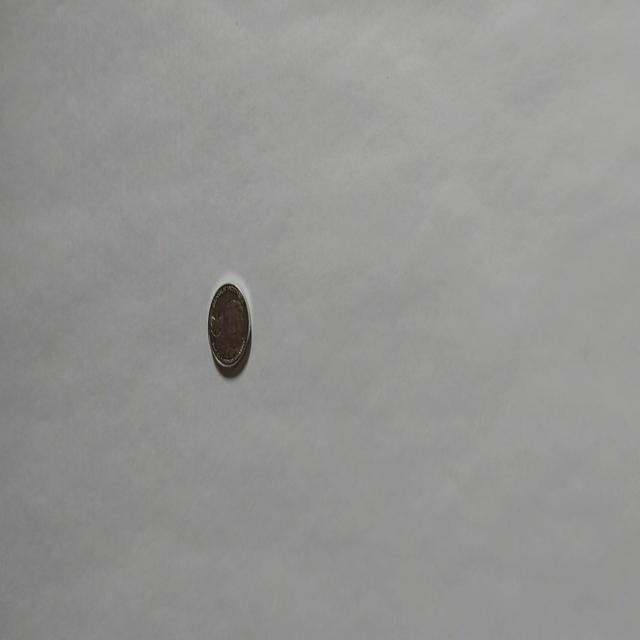seratus rupiah: (206, 280, 252, 370)
